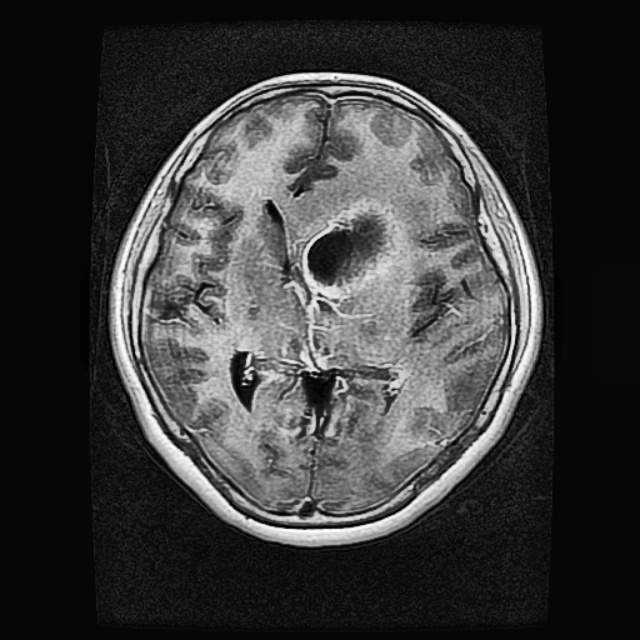Pituitary: (299, 195, 402, 300)
